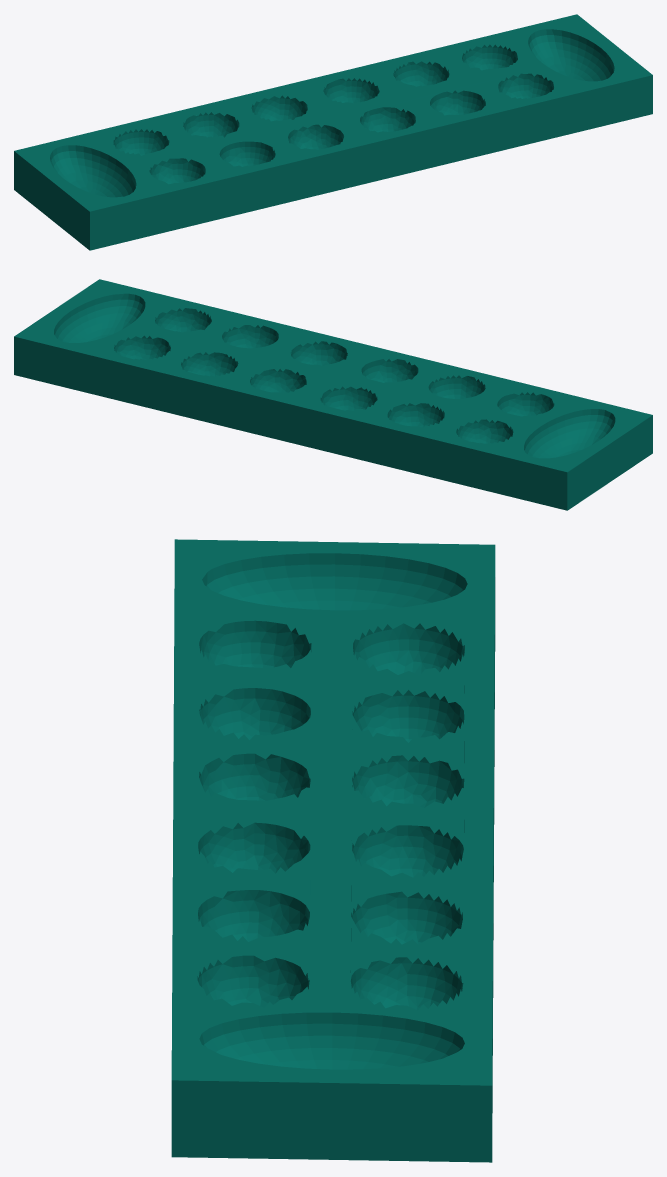
File: mancala2.obj
3 renders of one model, top to bottom at view 1: azimuth 30°, elevation 25°; view 2: azimuth 150°, elevation 25°; view 3: azimuth 270°, elevation 25°, orthographic. The views are drawn at different scales.
Parts seen in each view (by area): view 1: Mancala_Mesh_0; view 2: Mancala_Mesh_0; view 3: Mancala_Mesh_0.
Part boxes in pixels (box(x1,y1,x2,y2)): Mancala_Mesh_0: box(14, 14, 652, 250); Mancala_Mesh_0: box(14, 279, 652, 510); Mancala_Mesh_0: box(171, 539, 495, 1162).
Size of the model in its own units: 8.06 by 0.5293 by 2.02.
